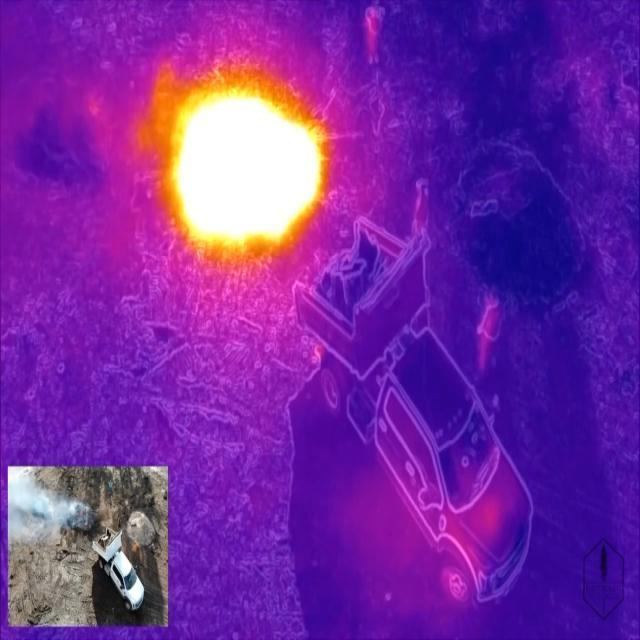fire: (148, 68, 330, 267)
